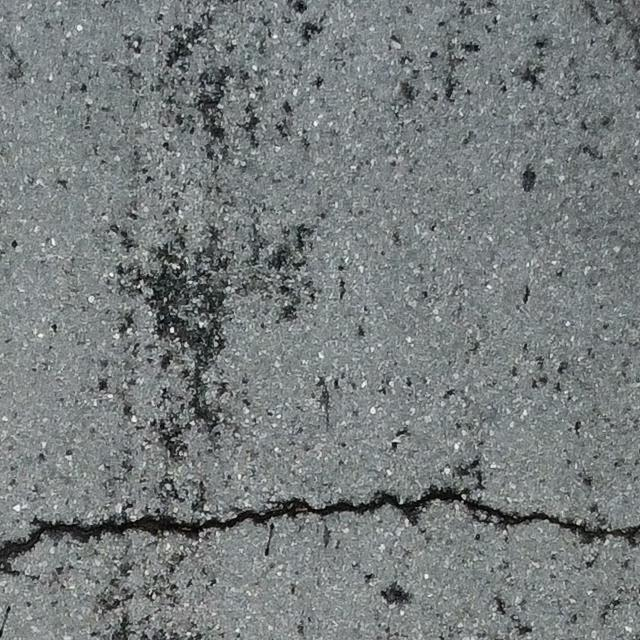TransverseCrack: (1, 485, 640, 575)
